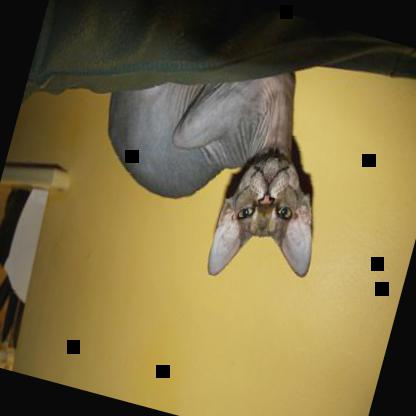cat: (72, 29, 356, 301)
